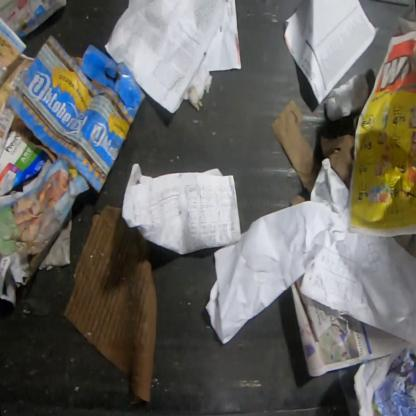cardboard: (9, 35, 145, 193), (63, 206, 158, 402), (270, 98, 356, 197), (0, 129, 48, 197)
